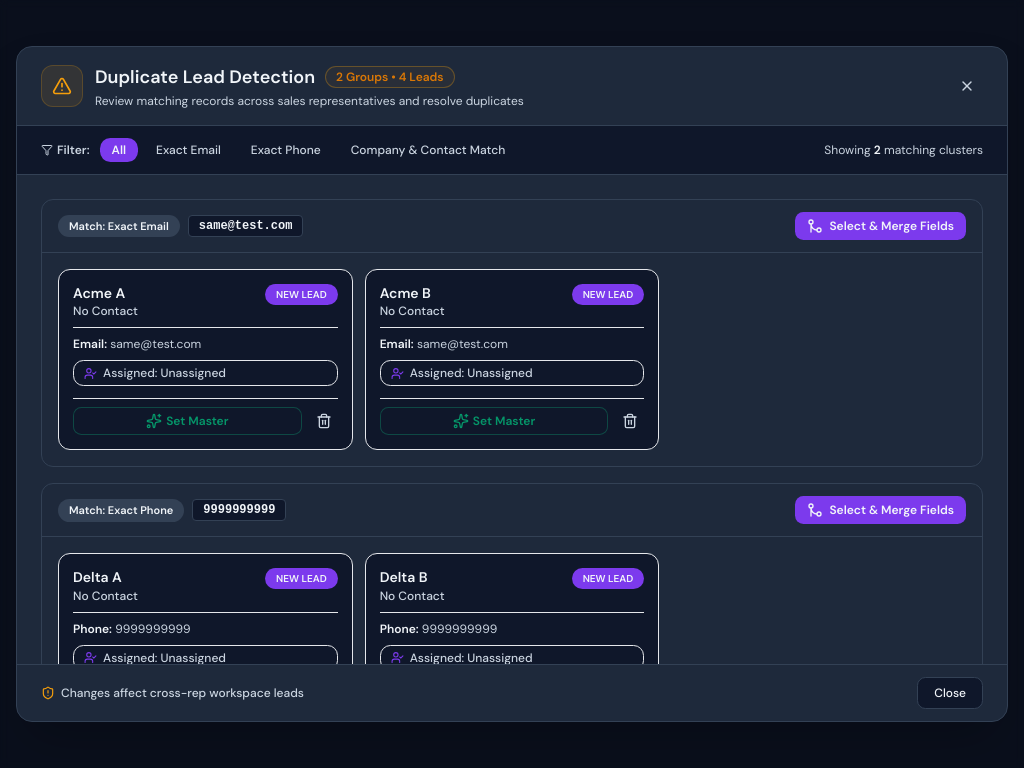
Test: CRMDuplicateLeadsModal › filters duplicate clusters by match criteria
The image size is (1024, 768).
Note: Filter by Exact Phone
Click the button "Exact Phone".
click(286, 150)  # box [239,138,333,162]
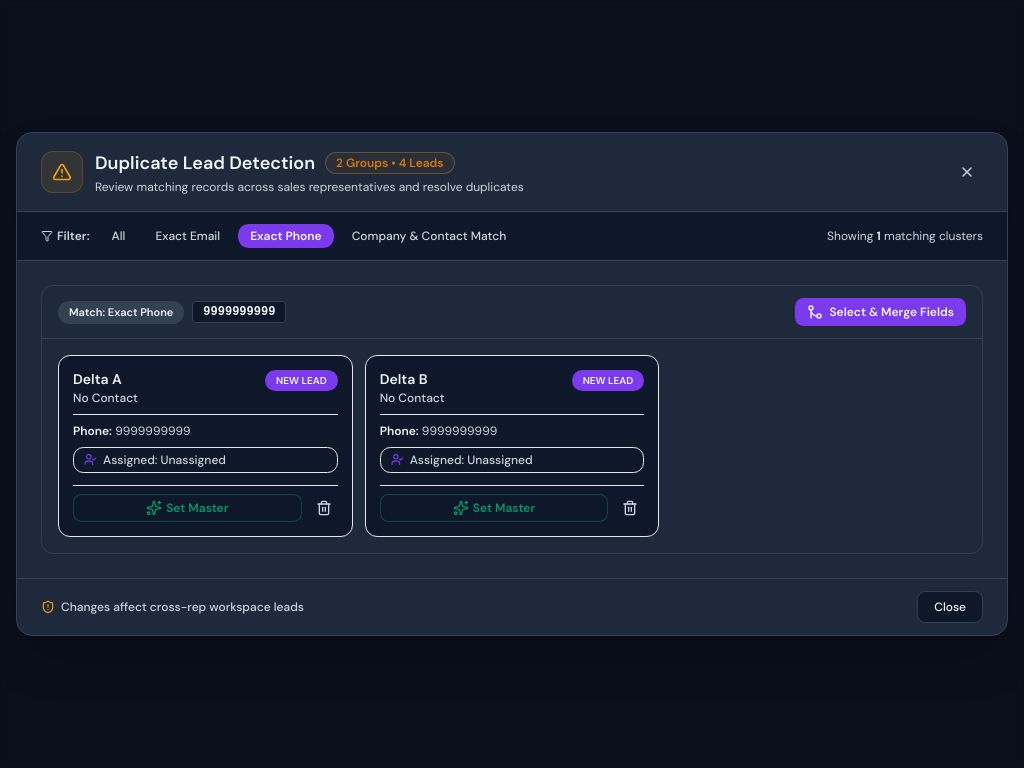
Expected: the text "same@test.com" is gone
